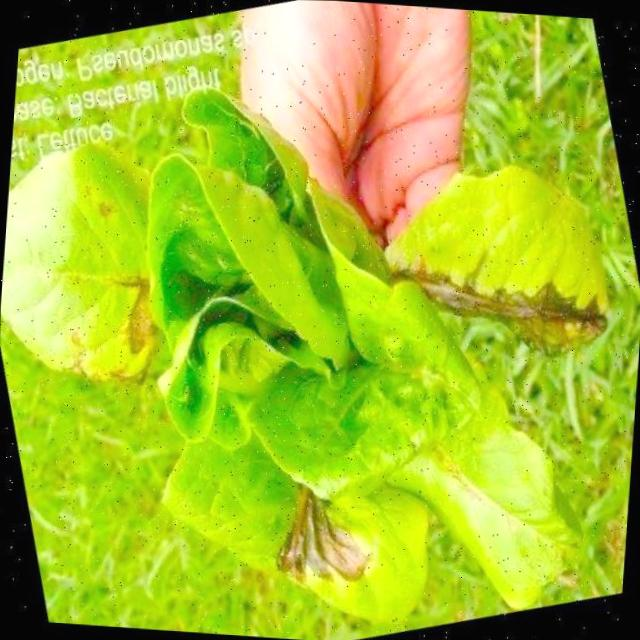Septoria_Blight_on_lettuce: (352, 136, 631, 402), (196, 404, 430, 639)
